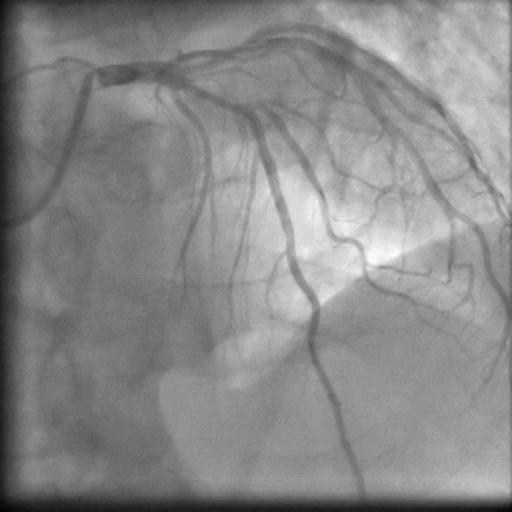Stenosis: (187, 79, 245, 112)
